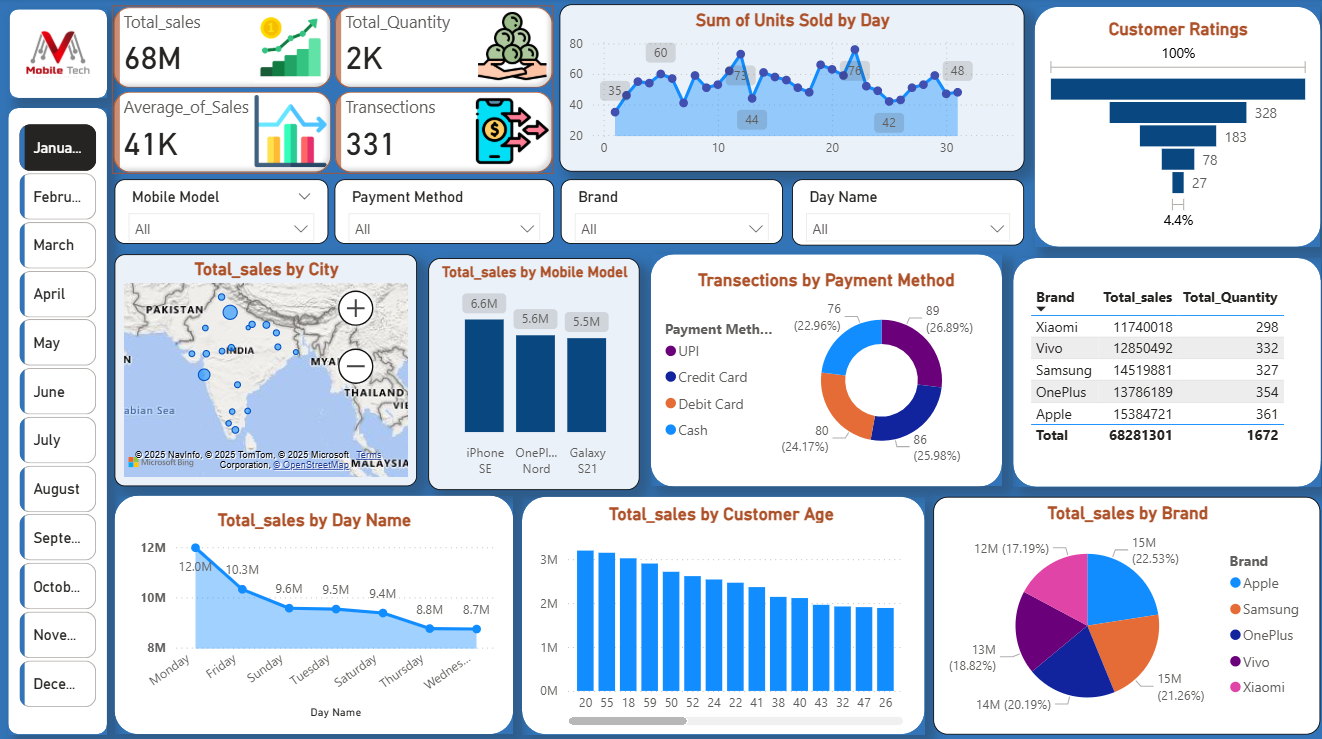

This screenshot's page, from the dashboard's own definition file:
{"tool":"powerbi","page":{"name":"Page 1","canvas":[1280,720],"ordinal":0},"visuals":[{"type":"shape","box":[12.1,10.9,94.1,85.7],"z":0},{"type":"shape","box":[10.9,106.2,95.3,604.4],"z":1000},{"type":"advancedSlicerVisual","fields":{"Values":["Sales_Data.Date.Variation.Date Hierarchy.Month"]},"box":[16.9,117,84.5,583.9],"z":2000},{"type":"cardVisual","fields":{"Data":["Sales_Data.Total_sales","Sales_Data.Total_Quantity","Sales_Data.Average_of_Sales","Sales_Data.Transections"]},"box":[106.2,2.4,437.9,173.7],"z":3000},{"type":"map","fields":{"Category":["Sales_Data.City"],"Size":["Sales_Data.Total_sales"]},"box":[113.4,247.3,292,224.4],"z":4000},{"type":"lineChart","fields":{"Y":["Sum(Sales_Data.Units Sold)"],"Category":["Sales_Data.Date.Variation.Date Hierarchy.Day"]},"box":[542.9,6,448.8,161.7],"z":5000},{"type":"columnChart","fields":{"Category":["Sales_Data.Mobile Model"],"Y":["Sales_Data.Total_sales"]},"box":[416.2,250.9,203.9,224.4],"z":6000},{"type":"shape","box":[631,247.3,339,224.4],"z":7000},{"type":"donutChart","fields":{"Category":["Sales_Data.Payment Method"],"Y":["Sales_Data.Transections"]},"box":[639.4,261.8,322.1,195.4],"z":8000},{"type":"shape","box":[1001.3,8.4,276.3,231.6],"z":9000},{"type":"funnel","title":" Customer Ratings ","fields":{"Category":["Sales_Data.Customer Ratings"],"Y":["Sum(Sales_Data.Customer Ratings)"]},"box":[1007.4,19.3,265.4,208.7],"z":10000},{"type":"shape","box":[113.4,480.2,384.9,230.4],"z":11000},{"type":"areaChart","fields":{"Category":["Sales_Data.Day Name"],"Y":["Sales_Data.Total_sales"]},"box":[126.7,493.4,359.5,207.5],"z":12000},{"type":"shape","box":[980.8,250.9,296.8,220.8],"z":13000},{"type":"tableEx","fields":{"Values":["Sales_Data.Brand","Sales_Data.Total_sales","Sales_Data.Total_Quantity"]},"box":[991.7,272.7,285.9,173.7],"z":14000},{"type":"shape","box":[506.7,481.4,388.5,229.2],"z":15000},{"type":"columnChart","fields":{"Category":["Sales_Data.Customer Age"],"Y":["Sales_Data.Total_sales"]},"box":[518.8,487.4,360.7,219.6],"z":16000},{"type":"slicer","fields":{"Values":["Sales_Data.Mobile Model"]},"box":[113.4,174.9,206.3,62.7],"z":17000},{"type":"slicer","fields":{"Values":["Sales_Data.Payment Method"]},"box":[325.7,174.9,212.3,62.7],"z":18000},{"type":"slicer","fields":{"Values":["Sales_Data.Brand"]},"box":[544.1,174.9,214.7,62.7],"z":19000},{"type":"slicer","fields":{"Values":["Sales_Data.Day Name"]},"box":[767.3,174.9,224.4,63.9],"z":20000},{"type":"image","box":[1.2,6,114.6,97.7],"z":21000},{"type":"pieChart","fields":{"Category":["Sales_Data.Brand"],"Y":["Sales_Data.Total_sales"]},"box":[903.6,481.4,374,229.2],"z":22000}]}

Visuals, with their boxes in screenshot pixels (x1, y1, x2, y2), scaled from the page's 1280x720 canvas onto the 1322x739 screenshot:
shape: (12,11,110,99)
shape: (11,109,110,729)
advancedSlicerVisual - Sales_Data.Date.Variation.Date Hierarchy.Month: (17,120,105,719)
cardVisual - Sales_Data.Total_sales x Sales_Data.Total_Quantity: (110,2,562,181)
map - Sales_Data.City x Sales_Data.Total_sales: (117,254,419,484)
lineChart - Sum(Sales_Data.Units Sold) x Sales_Data.Date.Variation.Date Hierarchy.Day: (561,6,1024,172)
columnChart - Sales_Data.Mobile Model x Sales_Data.Total_sales: (430,258,640,488)
shape: (652,254,1002,484)
donutChart - Sales_Data.Payment Method x Sales_Data.Transections: (660,269,993,469)
shape: (1034,9,1320,246)
" Customer Ratings " funnel: (1040,20,1315,234)
shape: (117,493,515,729)
areaChart - Sales_Data.Day Name x Sales_Data.Total_sales: (131,506,502,719)
shape: (1013,258,1320,484)
tableEx - Sales_Data.Brand x Sales_Data.Total_sales: (1024,280,1320,458)
shape: (523,494,925,729)
columnChart - Sales_Data.Customer Age x Sales_Data.Total_sales: (536,500,908,726)
slicer - Sales_Data.Mobile Model: (117,180,330,244)
slicer - Sales_Data.Payment Method: (336,180,556,244)
slicer - Sales_Data.Brand: (562,180,784,244)
slicer - Sales_Data.Day Name: (792,180,1024,245)
image: (1,6,120,106)
pieChart - Sales_Data.Brand x Sales_Data.Total_sales: (933,494,1320,729)
